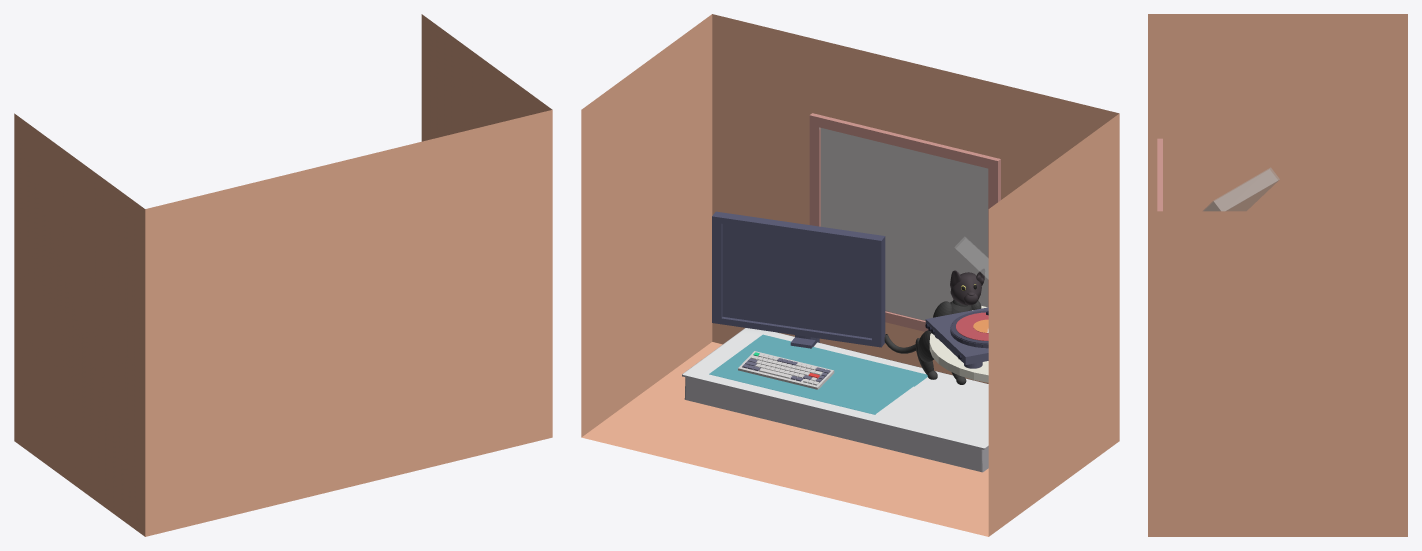
File: mobile-desk.glb
3 renders of one model, left to right at view 1: azimuth 30°, elevation 25°; view 2: azimuth 150°, elevation 25°; view 3: azimuth 270°, elevation 25°, orthographic.
Visible parts, largest first — view 1: room; view 2: room, white-board, desk, monitor, record-shelf, cat-body, cat-head, record; view 3: room, record-shelf, white-board.
Part boxes in pixels (x1,y1,x2,y2): room: [14, 14, 552, 536]; room: [581, 14, 1119, 536]; white-board: [809, 113, 1000, 331]; desk: [682, 328, 988, 472]; monitor: [712, 211, 885, 348]; record-shelf: [925, 237, 988, 382]; cat-body: [884, 299, 981, 384]; cat-head: [950, 268, 984, 305]; record: [956, 312, 988, 340]; room: [1148, 14, 1407, 536]; record-shelf: [1203, 167, 1279, 211]; white-board: [1157, 138, 1162, 211].
Size of the model in its own units: 10.59 by 8.2 by 5.89.
26 materials, 25 textured.
